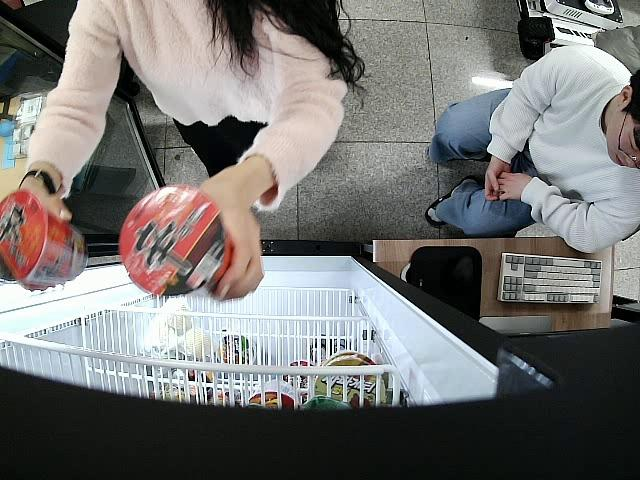00_hand: (205, 171, 266, 300), (15, 169, 74, 222)
02_shinRamen_S: (119, 188, 235, 296), (0, 189, 88, 284)
